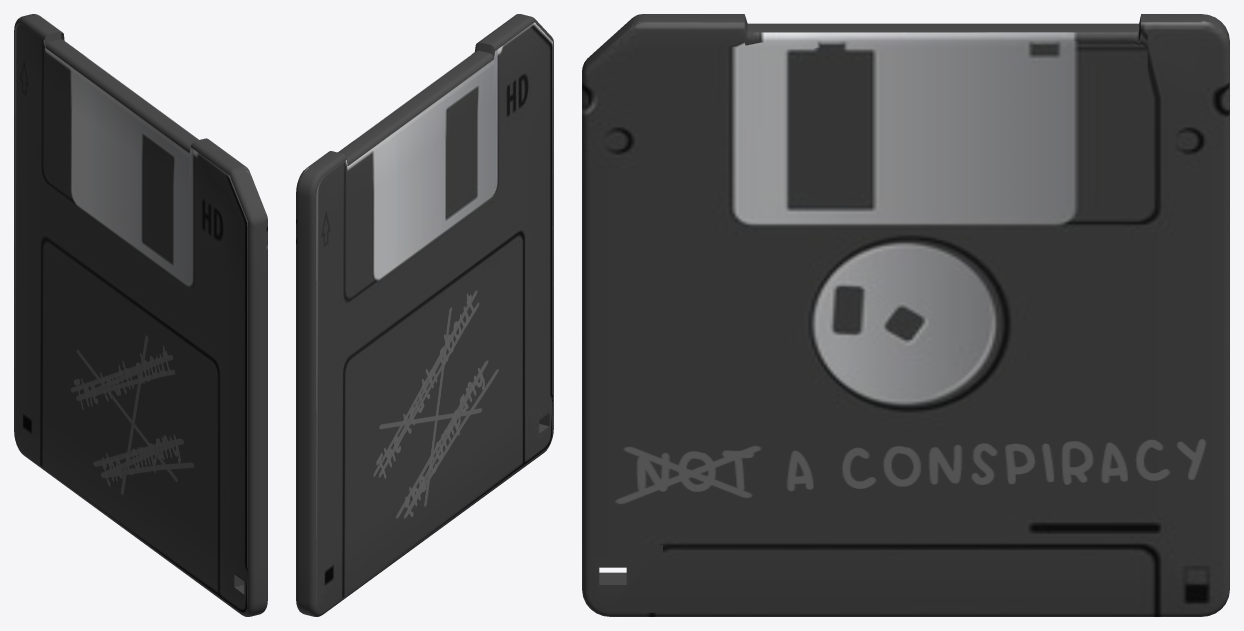
The model's file is FloppyDisk.fbx.
3 renders of one model, left to right at view 1: azimuth 30°, elevation 25°; view 2: azimuth 150°, elevation 25°; view 3: azimuth 270°, elevation 25°, orthographic. The views are drawn at different scales.
Visible parts, largest first — view 1: Plane; view 2: Plane; view 3: Plane.
Boxes of the visible parts, left/top/right/bottom form: Plane: left=14, top=14, right=267, bottom=616; Plane: left=296, top=14, right=553, bottom=616; Plane: left=582, top=14, right=1229, bottom=616.
Size of the model in its own units: 10.41 by 226 by 223.
1 material, 1 textured.
